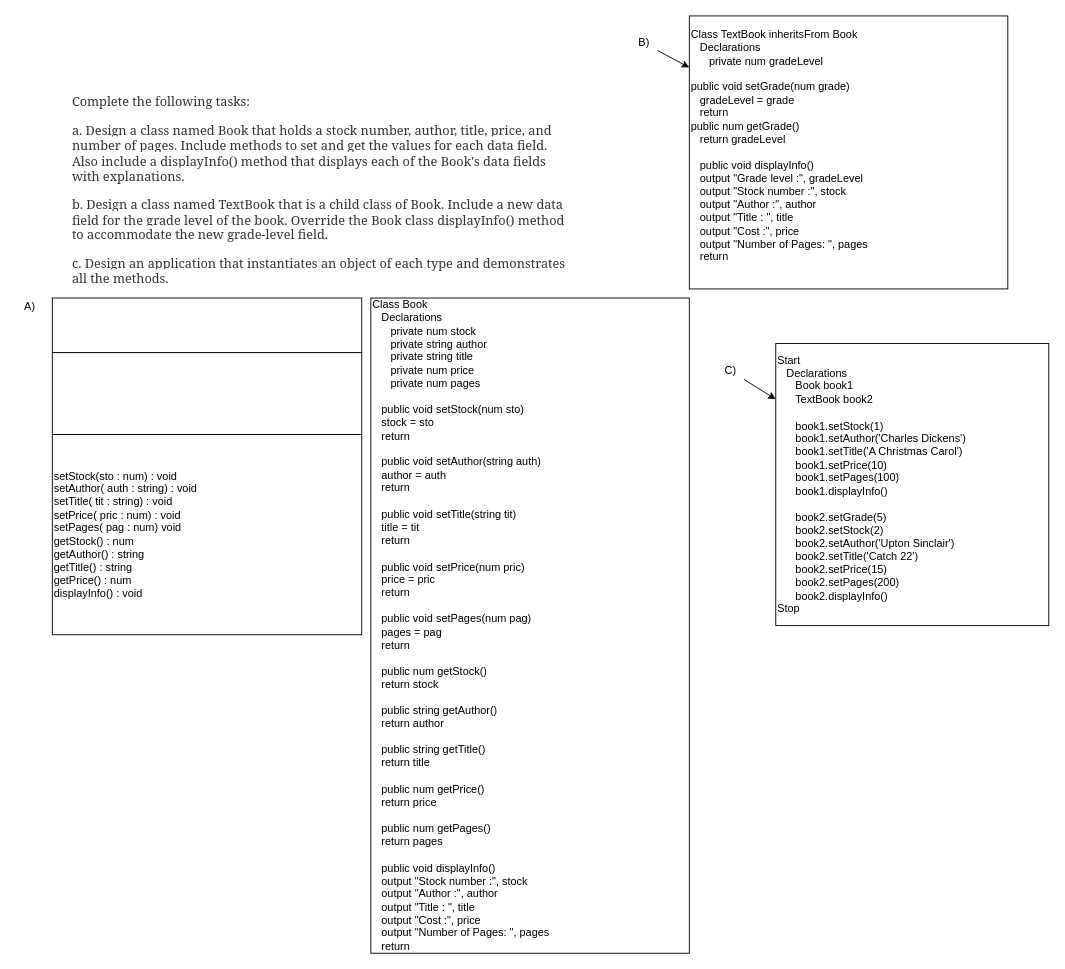
Some shapes in this 1065 by 969 pixel diagram are drawn without their labels. Here are the shapes that lost their labels. From the top down, the centre of each, then its label:
At point 206,325: "Book".
At point 206,393: "stock : num author : string title : string price : num pages : num".
